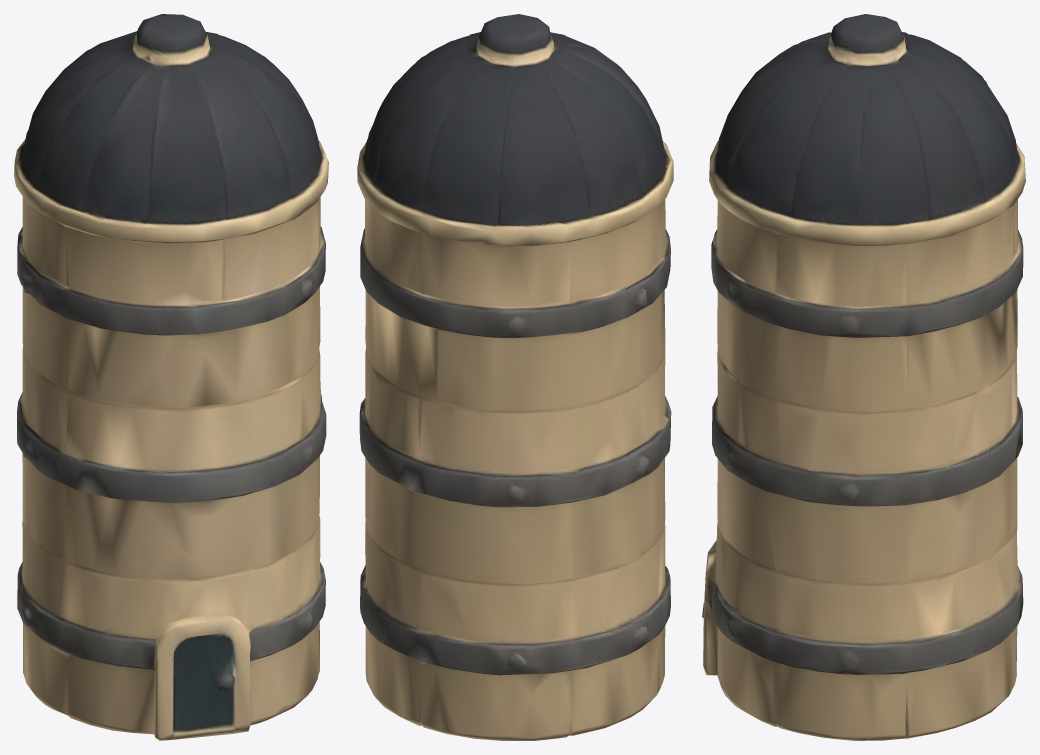
Rendered from silo.glb.
The picture shows the model from 3 angles, left to right: view 1: azimuth 30°, elevation 25°; view 2: azimuth 150°, elevation 25°; view 3: azimuth 270°, elevation 25°; orthographic projection.
Visible parts, largest first — view 1: tripo_node_28ca59c3-b056-4023-8848-8b2472ec33d5; view 2: tripo_node_28ca59c3-b056-4023-8848-8b2472ec33d5; view 3: tripo_node_28ca59c3-b056-4023-8848-8b2472ec33d5.
Boxes of the visible parts, x1,y1,x2,y2 form: tripo_node_28ca59c3-b056-4023-8848-8b2472ec33d5: (14, 14, 328, 740); tripo_node_28ca59c3-b056-4023-8848-8b2472ec33d5: (357, 14, 673, 740); tripo_node_28ca59c3-b056-4023-8848-8b2472ec33d5: (702, 14, 1025, 740).
Bounding box in the file's own units: 0.4435 × 1 × 0.4472.
1 material, 1 textured.
